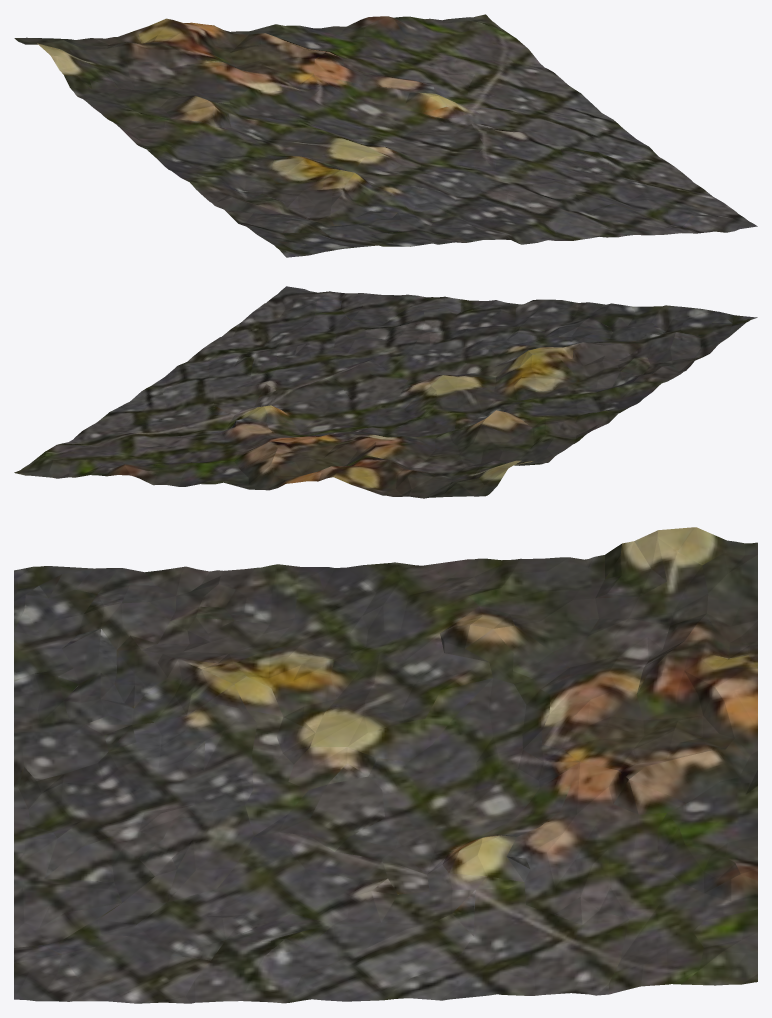
The picture shows the model from 3 angles, top to bottom: view 1: azimuth 30°, elevation 25°; view 2: azimuth 150°, elevation 25°; view 3: azimuth 270°, elevation 25°; orthographic projection. The views are drawn at different scales.
Bounding box in the file's own units: 0.8374 × 0.2014 × 0.8373.
3 materials, 3 textured.
